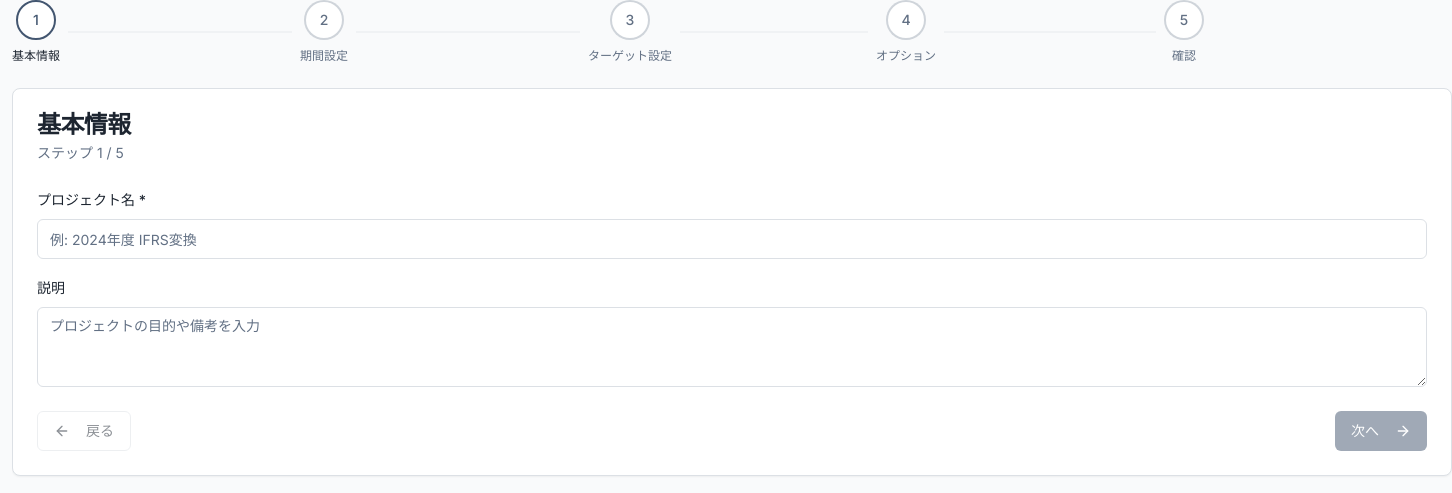
it: ProjectWizard — step 1 validation gate (period) › disables Next while both dates are empty
Type "p" into the field with placeholder "例: 2024年度 IFRS変換" at (732, 239), box x1=37 y1=219 x2=1427 y2=259
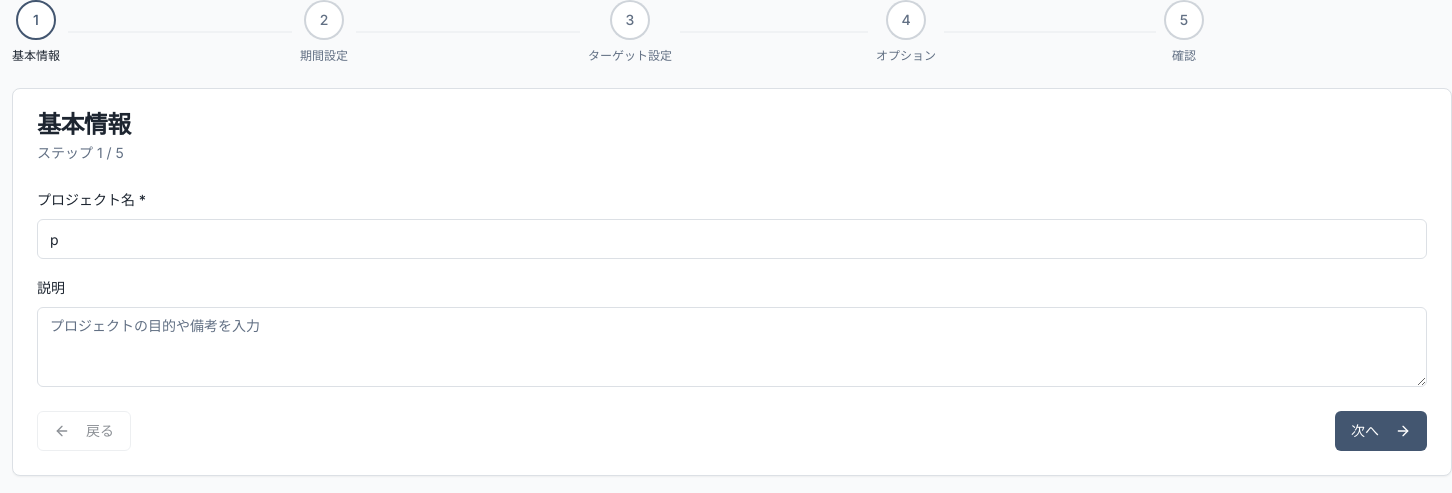
Click the button "次へ" at (1381, 431), box x1=1335 y1=411 x2=1427 y2=451
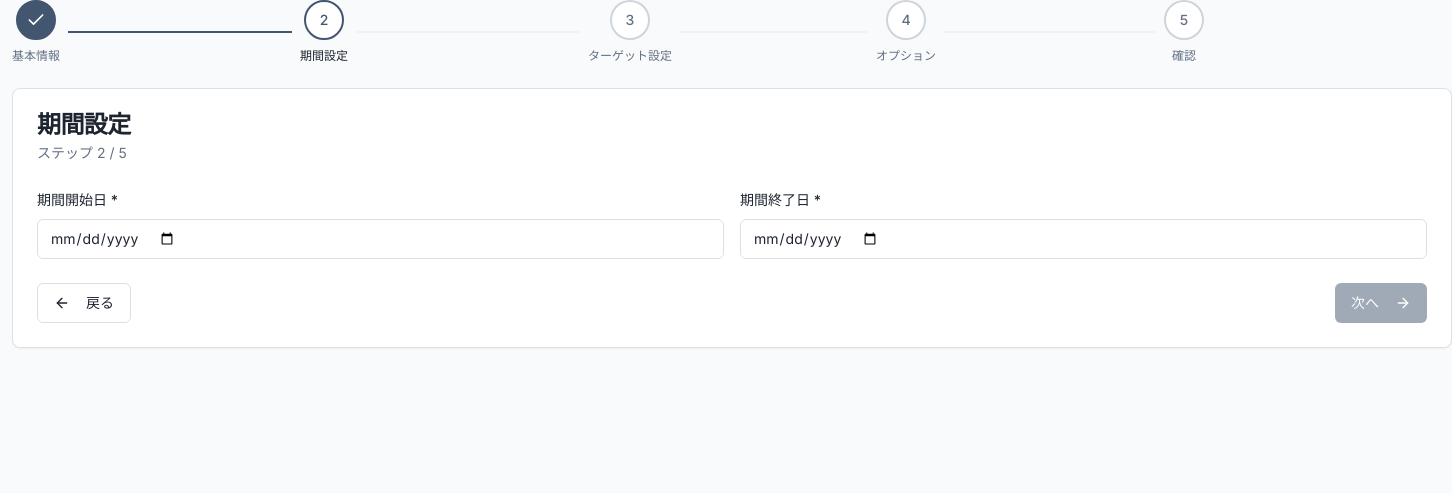
Now the button "次へ" is disabled, box x1=1335 y1=283 x2=1427 y2=323
